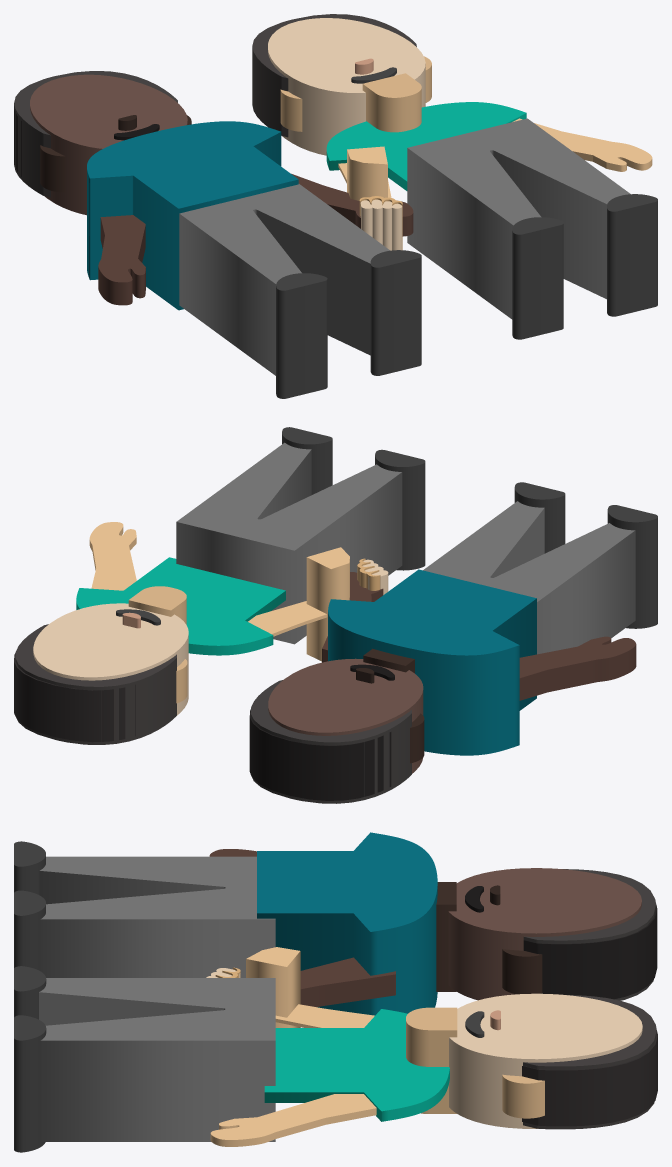
File: emoji_u1f468_1f3ff_200d_1f91d_200d_1f468_1f3fb.glb
3 views of the same model, one above another, from view 1: azimuth 30°, elevation 25°; view 2: azimuth 150°, elevation 25°; view 3: azimuth 270°, elevation 25° (orthographic). The views are drawn at different scales.
Parts seen in each view (by area): view 1: emoji_u1f468_1f3ff_200d_1f91d_200d_1f468_1f3fb; view 2: emoji_u1f468_1f3ff_200d_1f91d_200d_1f468_1f3fb; view 3: emoji_u1f468_1f3ff_200d_1f91d_200d_1f468_1f3fb.
Part boxes in pixels (bbox=[...]): emoji_u1f468_1f3ff_200d_1f91d_200d_1f468_1f3fb: bbox=[14, 14, 657, 398]; emoji_u1f468_1f3ff_200d_1f91d_200d_1f468_1f3fb: bbox=[14, 427, 657, 803]; emoji_u1f468_1f3ff_200d_1f91d_200d_1f468_1f3fb: bbox=[14, 832, 657, 1152].
Size of the model in its own units: 0.0346 by 0.0066 by 0.0334.
